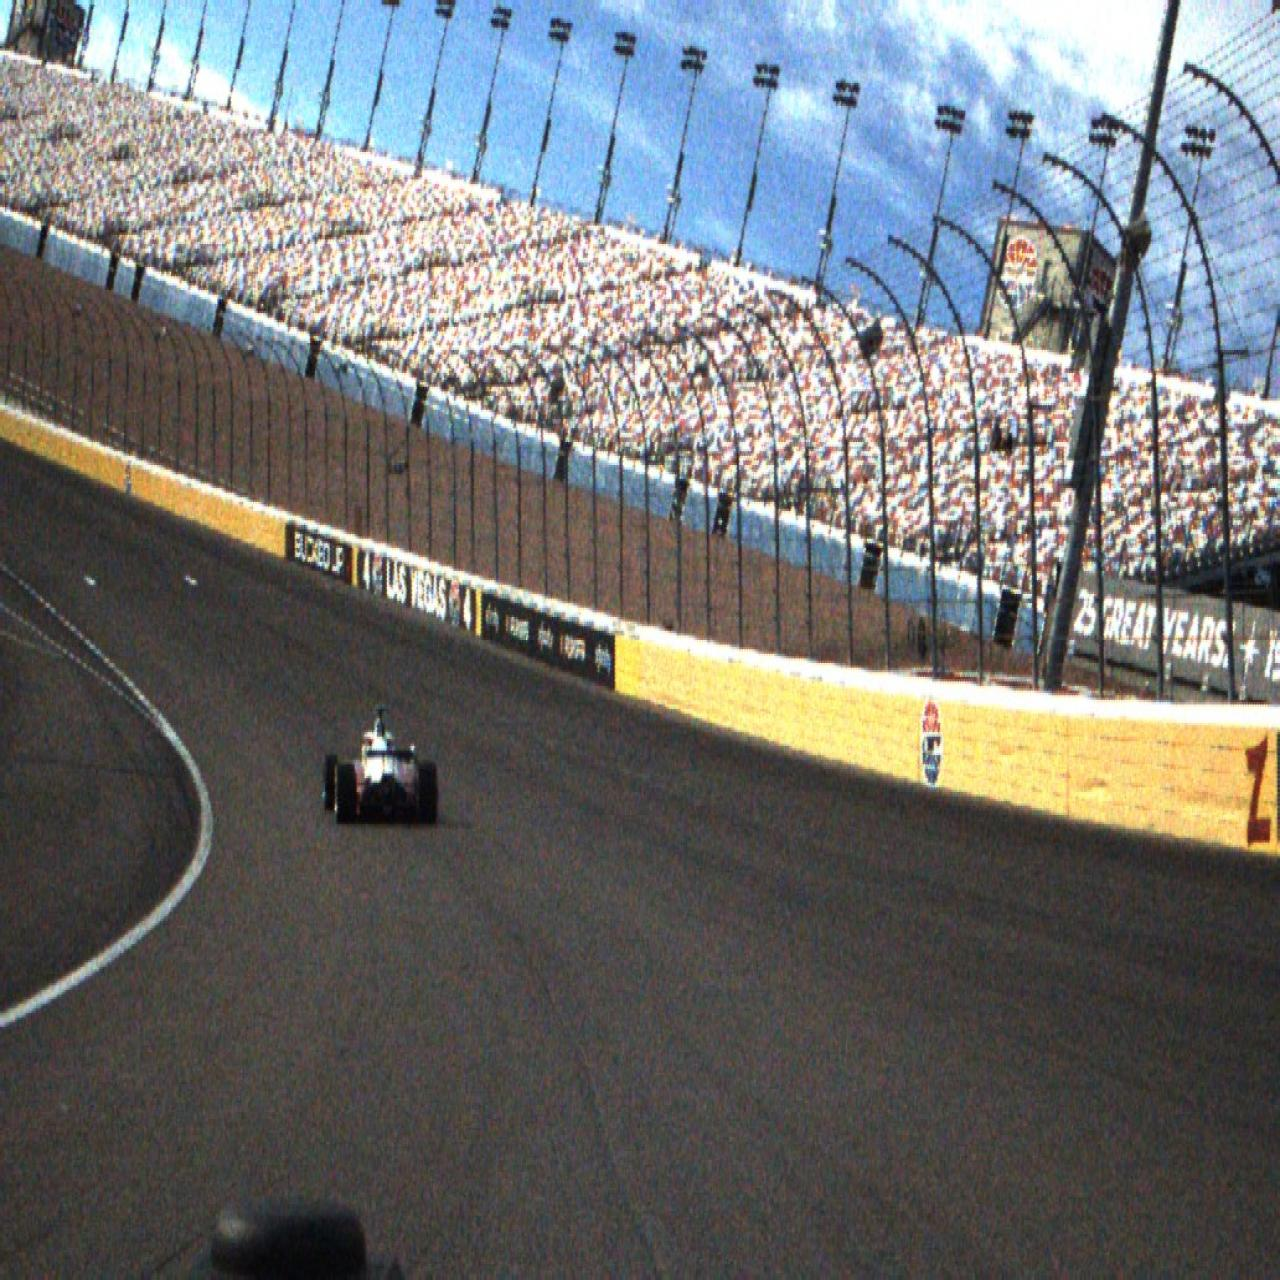AV: (322, 706, 438, 826)
Wheel: (334, 764, 356, 825), (417, 763, 437, 825), (324, 754, 339, 812)
